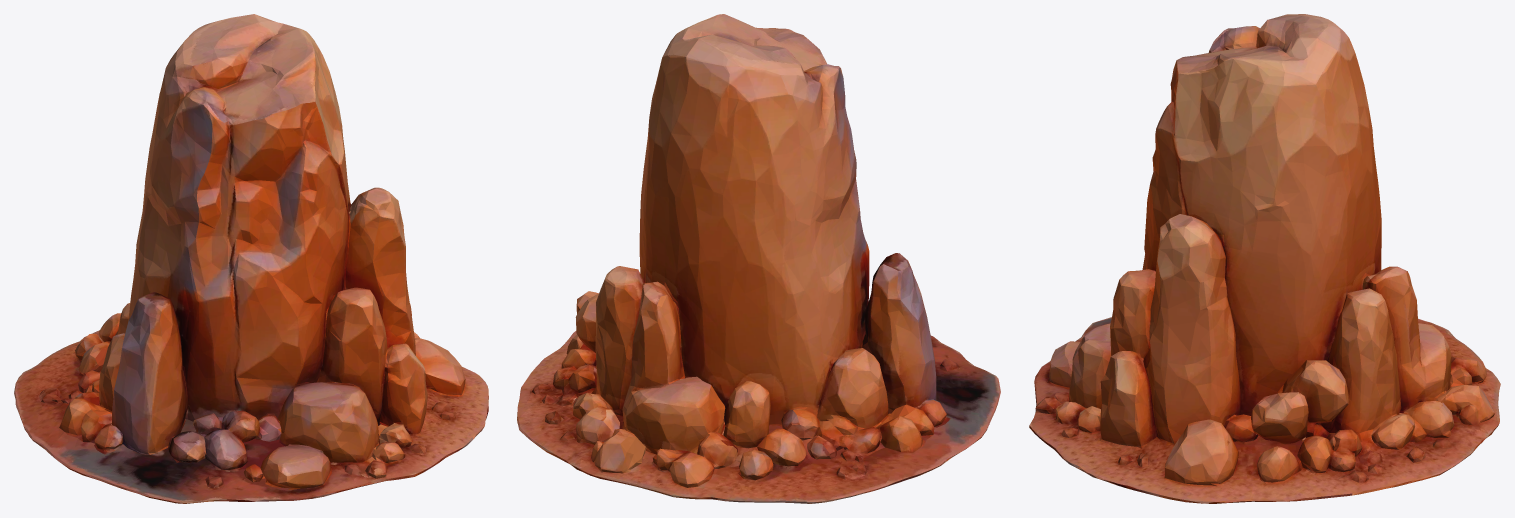
The model's file is rock_formation_7.glb.
The picture shows the model from 3 angles, left to right: view 1: azimuth 30°, elevation 25°; view 2: azimuth 150°, elevation 25°; view 3: azimuth 270°, elevation 25°; orthographic projection. The views are drawn at different scales.
Size of the model in its own units: 1.98 by 1.72 by 1.94.
Materials: 1 (1 with a texture image).
